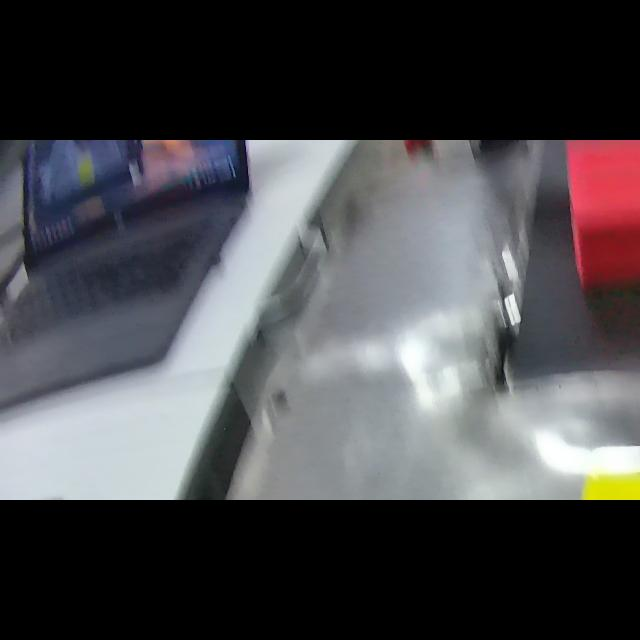redBox: (560, 140, 640, 298)
yellowBox: (548, 460, 640, 500)
